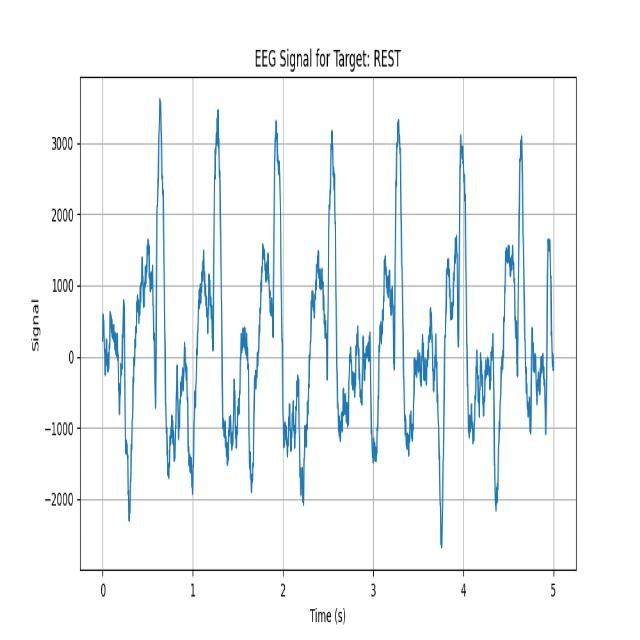LEFT: (357, 95, 425, 548), (120, 88, 182, 537), (184, 88, 244, 543), (427, 94, 486, 553), (245, 88, 299, 548), (302, 89, 355, 548), (488, 93, 540, 548)
